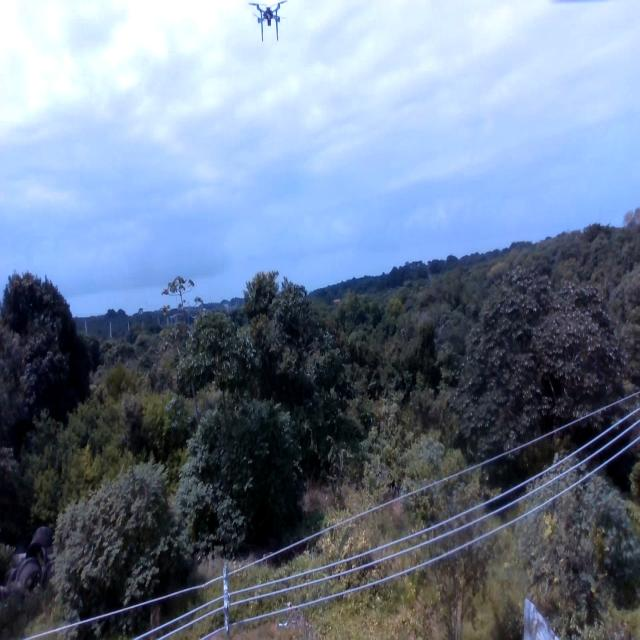-uav-: (243, 1, 296, 52)
